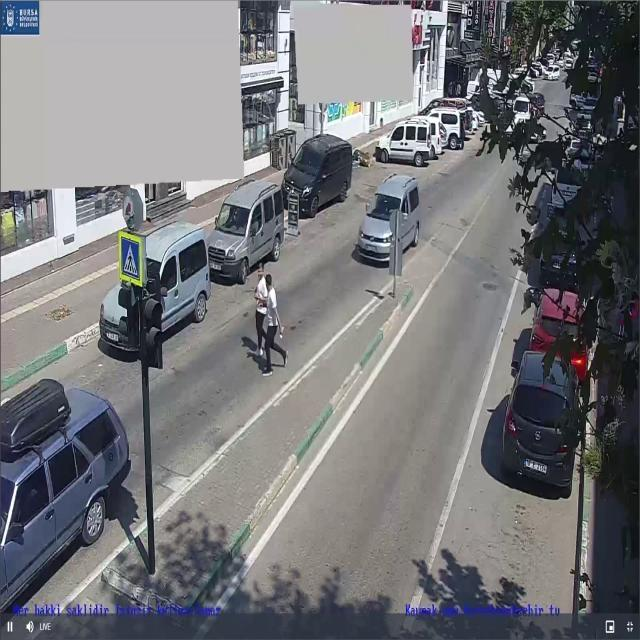Car: (0, 379, 130, 615), (97, 219, 210, 356), (499, 351, 582, 492), (205, 176, 284, 283), (281, 134, 353, 216), (528, 288, 590, 378), (357, 175, 420, 263), (377, 118, 432, 166), (424, 107, 466, 150), (543, 65, 560, 80)
